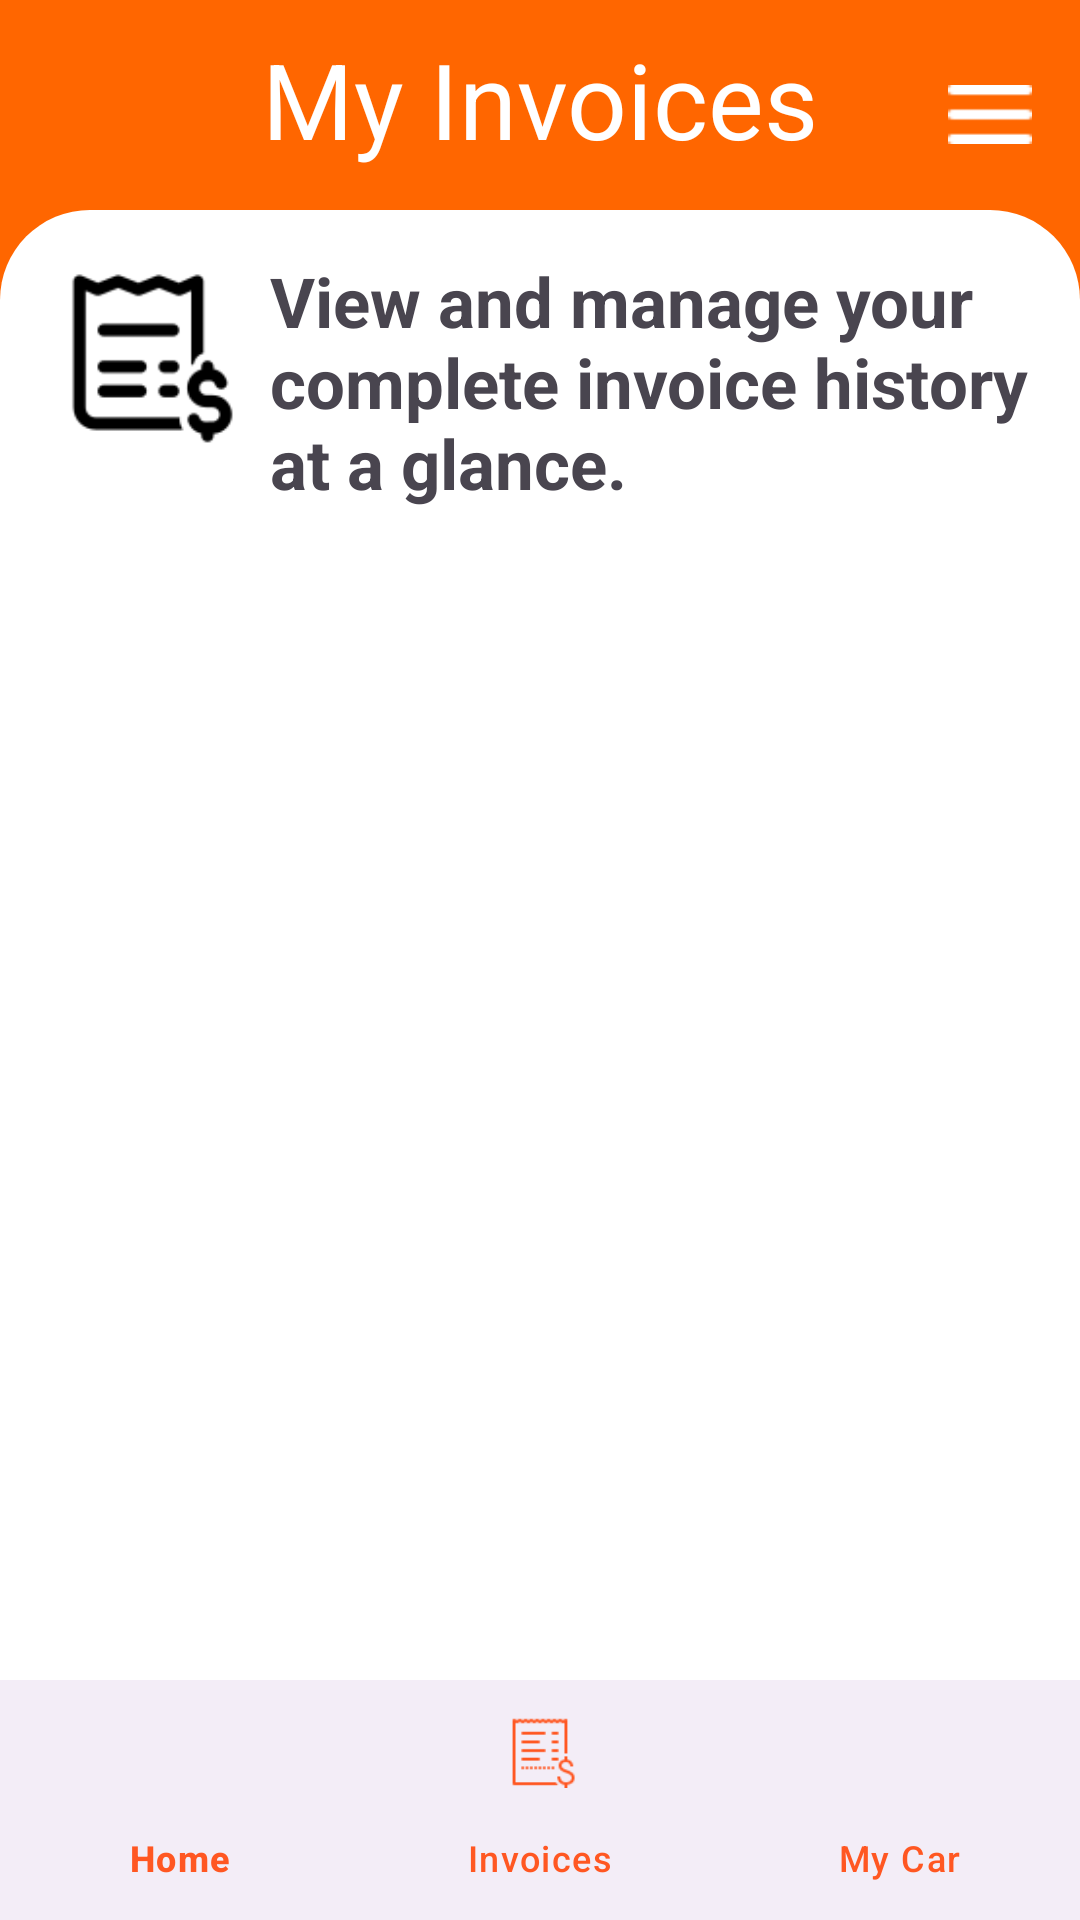

Icon click points for this 1080*1920 phone screenshot, format point (x, y):
menu: point (990, 114)
receipt dollar: point (152, 358)
